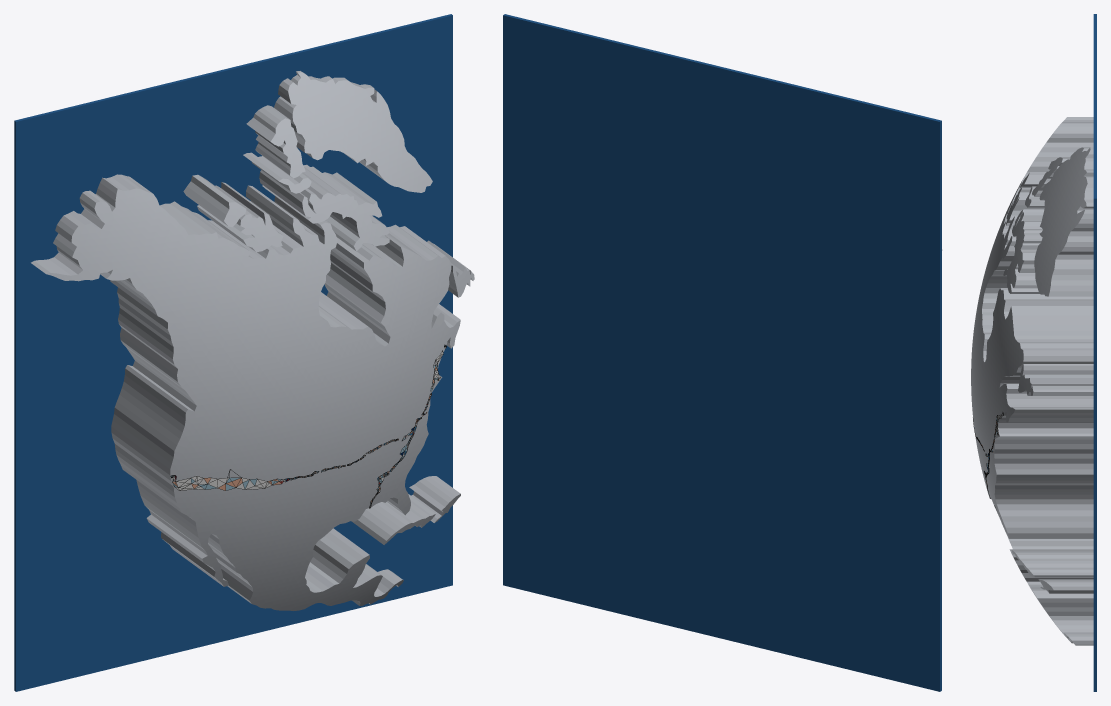
Rendered from viewer_scene.glb.
3 views of the same model, side by side, from view 1: azimuth 30°, elevation 25°; view 2: azimuth 150°, elevation 25°; view 3: azimuth 270°, elevation 25° (orthographic). The views are drawn at different scales.
Visible parts, largest first — view 1: land_10, land_0, land_1, land_2, land_4, land_3, land_6, land_8, land_7, chain_11, land_9, chain_15 (+1 smaller); view 2: land_10; view 3: land_0, land_1, land_10, land_5, land_2, land_6, land_7, land_3, land_4, land_8, land_9.
Boxes of the visible parts, bbox=[...] form: land_10: bbox=[14, 14, 452, 691]; land_0: bbox=[31, 174, 460, 610]; land_1: bbox=[274, 71, 432, 192]; land_2: bbox=[259, 164, 389, 251]; land_4: bbox=[246, 105, 305, 178]; land_3: bbox=[197, 182, 283, 252]; land_6: bbox=[352, 494, 435, 544]; land_8: bbox=[183, 174, 246, 227]; land_7: bbox=[409, 476, 460, 522]; chain_11: bbox=[170, 412, 426, 490]; land_9: bbox=[243, 152, 311, 193]; chain_15: bbox=[172, 414, 422, 490]; land_10: bbox=[503, 14, 941, 691]; land_0: bbox=[971, 117, 1093, 645]; land_1: bbox=[1034, 147, 1093, 296]; land_10: bbox=[1093, 14, 1096, 691]; land_5: bbox=[1018, 364, 1093, 395]; land_2: bbox=[1003, 209, 1044, 293]; land_6: bbox=[1011, 550, 1093, 577]; land_7: bbox=[1038, 579, 1093, 593]; land_3: bbox=[1006, 187, 1044, 225]; land_4: bbox=[1032, 157, 1070, 196]; land_8: bbox=[1020, 172, 1046, 187]; land_9: bbox=[1025, 186, 1044, 207].
Size of the model in its own units: 6900 by 8600 by 1988.
